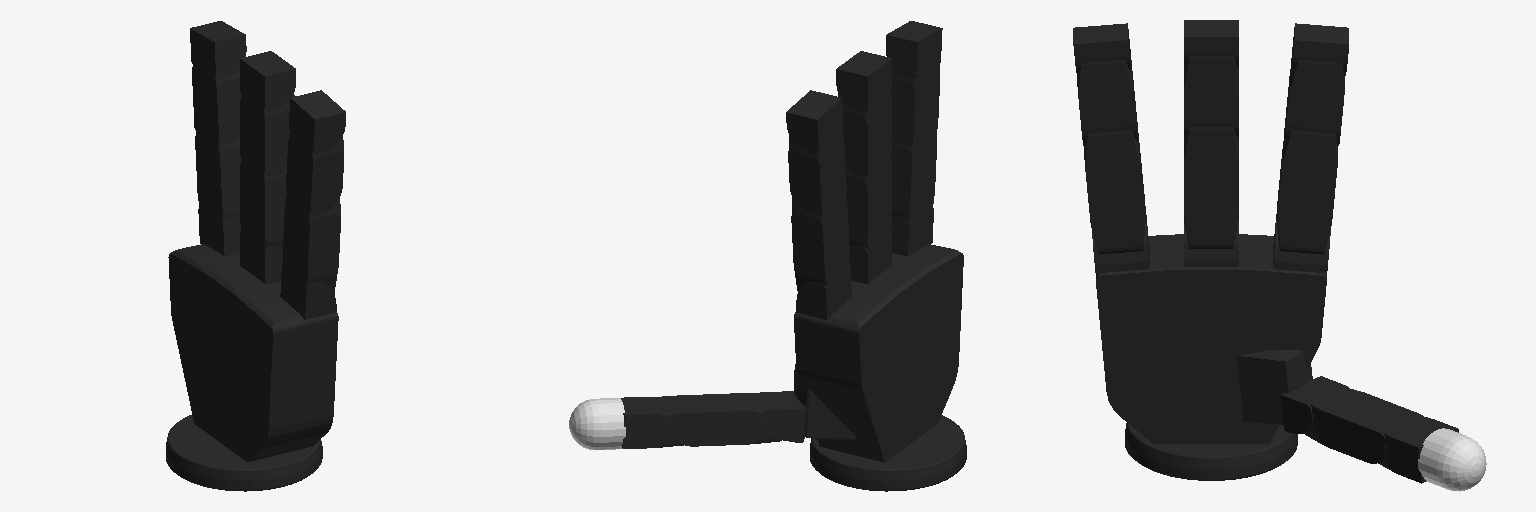
URDF robot description (allegro_hand_right):
<?xml version="1.0" ?>
<!-- =================================================================================== -->
<!-- |    This document was autogenerated by xacro from allegro_hand_description_right.xacro | -->
<!-- |    EDITING THIS FILE BY HAND IS NOT RECOMMENDED                                 | -->
<!-- =================================================================================== -->
<robot name="allegro_hand_right" xmlns:xacro="http://www.ros.org/wiki/xacro">
  <!-- ======================== BASE PARAMS ========================= -->
  <!-- ======================== FINGER PARAMS ======================== -->
  <!-- full height from joint to tip. when used,
    the radius of the finger tip sphere will be subtracted
    and one fixed link will be added for the tip. -->
  <!-- ========================= THUMB PARAMS ========================= -->
  <!-- ========================= LIMITS ========================= -->
  <!-- ============================================================================= -->
  
  <!-- BASE -->
    <link name="base"/>
  <!--joint between {parent} and link_0-->
  <joint name="world_iiwa_joint" type="fixed">
    <origin rpy="-3.141592653589793 -1.5707963267948966 -3.141592653589793" xyz="0.0425 0 0.0425"/>
    <parent link="base"/>
    <child link="allegro_mount00"/>
  </joint>

    <link name="allegro_mount00"/>
    <joint name="mount00" type="fixed">
        <origin rpy="0 0 0" xyz="-0.0425 -0.0425 0 "/>
        <parent link="allegro_mount00"/>
        <child link="allegro_mount"/>
    </joint>

  <link name="allegro_mount">
  <visual>
      <geometry>
        <mesh filename="allegro_mount_convex.stl"/>
      </geometry>
      <!-- LEFT -->
      <!-- <origin rpy="${-90*DEG2RAD} 0 0" xyz="0 0 0 "/> -->
      <!-- RIGHT -->
      <origin rpy="0 0 0" xyz="0 0 0 "/>
      <material name="black">
        <color rgba="0.2 0.2 0.2 1"/>
      </material>
    </visual>
    <collision>
      <origin rpy="0 0 0" xyz="0 0 0"/>
      <geometry>
        <box size="0.001 0.001 0.001"/>
      </geometry>
    </collision>
  </link>
  <!--joint between {parent} and link_0-->
  <joint name="base_joint" type="fixed">
    <origin rpy="0 1.5707963267948966 0" xyz="0.065 0 0.0275"/>
    <parent link="allegro_mount00"/>
    <child link="palm_link"/>
  </joint>

  <!-- PALM -->
  <link name="palm_link">
    <visual>
      <geometry>
        <mesh filename="base_link_convex.stl"/>
      </geometry>
      <origin rpy="0 0 0" xyz="0 0 0 "/>
      <material name="black">
        <color rgba="0.2 0.2 0.2 1"/>
      </material>
    </visual>
    <collision>
      <origin rpy="0 0 0" xyz="-0.009300 0 -0.0475"/>
      <geometry>
        <box size="0.0408 0.1130 0.095"/>
      </geometry>
    </collision>
    <inertial>
      <origin rpy="0 0 0" xyz="0 0 0.0475"/>
      <mass value="0.4154"/>
      <inertia ixx="1e-4" ixy="0" ixz="0" iyy="1e-4" iyz="0" izz="1e-4"/>
    </inertial>
  </link>
  <!-- ============================================================================= -->
  <!-- FINGERS -->
  <!-- RIGHT HAND due to which finger is number 0 -->
  <!-- for LEFT HAND switch the sign of the **offset_origin_y** and **finger_angle_r** parameters-->
  <!-- [LINK 0, 4, 8] -->


  <link name="link_0">
    <visual>
      <geometry>
        <mesh filename="link_0.0_convex.stl"/>
      </geometry>
      <material name="black"/>
    </visual>
    <collision>
      <geometry>
        <box size="0.0196 0.0275 0.0164"/>
      </geometry>
      <origin rpy="0 0 0" xyz="0 0 0.0082"/>
    </collision>
    <inertial>
      <mass value="0.0119"/>
      <origin rpy="0 0 0" xyz="0 0 0"/>
      <inertia ixx="1.01666658333e-06" ixy="0" ixz="0" iyy="6.47677333333e-07" iyz="0" izz="1.01666658333e-06"/>
    </inertial>
  </link>
  <joint name="joint_0" type="revolute">
    <axis xyz="0 0 1"/>
    <limit effort="15" lower="-0.47" upper="0.47" velocity="7"/>
    <parent link="palm_link"/>
    <child link="link_0"/>
    <origin rpy="-0.08726646255 0 0" xyz="0 0.0435 -0.001542"/>
    <dynamics damping="3" friction="10"/>
  </joint>
  <!-- [LINK 1, 5, 9] -->
  <link name="link_1">
    <visual>
      <geometry>
        <mesh filename="link_1.0_convex.stl"/>
      </geometry>
      <material name="black"/>
    </visual>
    <collision>
      <geometry>
        <box size="0.0196 0.0275 0.054"/>
      </geometry>
      <origin rpy="0 0 0" xyz="0 0 0.027"/>
    </collision>
    <inertial>
      <mass value="0.065"/>
      <origin rpy="0 0 0" xyz="0 0 0"/>
      <inertia ixx="7.95654166667e-05" ixy="1.7199e-05" ixz="8.75875e-06" iyy="2.47088833333e-05" iyz="2.413125e-05" izz="7.95654166667e-05"/>
    </inertial>
  </link>
  <joint name="joint_1" type="revolute">
    <limit effort="15" lower="-0.196" upper="1.61" velocity="7"/>
    <axis xyz="0 1 0"/>
    <parent link="link_0"/>
    <child link="link_1"/>
    <origin xyz="0 0 0.0164"/>
    <dynamics damping="3" friction="5"/>
  </joint>
  <!-- [LINK 2, 6, 10]-->
  <link name="link_2">
    <visual>
      <geometry>
        <mesh filename="link_2.0_convex.stl"/>
      </geometry>
      <material name="black"/>
    </visual>
    <collision>
      <geometry>
        <box size="0.0196 0.0275 0.0384"/>
      </geometry>
      <origin rpy="0 0 0" xyz="0 0 0.0192"/>
    </collision>
    <inertial>
      <mass value="0.0355"/>
      <origin rpy="0 0 0" xyz="0 0 0"/>
      <inertia ixx="2.63979183333e-05" ixy="6.67968e-06" ixz="4.783625e-06" iyy="1.34948516667e-05" iyz="9.372e-06" izz="2.63979183333e-05"/>
    </inertial>
  </link>
  <joint name="joint_2" type="revolute">
    <axis xyz="0 1 0"/>
    <limit effort="15" lower="-0.174" upper="1.709" velocity="7"/>
    <parent link="link_1"/>
    <child link="link_2"/>
    <origin xyz="0 0 0.054"/>
    <dynamics damping="8" friction="10"/>
  </joint>
  <!-- [LINK 3, 7, 11] -->
  <link name="link_3">
    <visual>
      <geometry>
        <mesh filename="link_3.0_convex.stl"/>
      </geometry>
      <material name="black"/>
    </visual>
    <collision>
      <geometry>
        <box size="0.0196 0.0275 0.0267"/>
      </geometry>
      <origin rpy="0 0 0" xyz="0 0 0.01335"/>
    </collision>
    <inertial>
      <mass value="0.0096"/>
      <origin rpy="0 0 0" xyz="0 0 0"/>
      <inertia ixx="4.701248e-06" ixy="1.255968e-06" ixz="1.2936e-06" iyy="3.649312e-06" iyz="1.7622e-06" izz="4.701248e-06"/>
    </inertial>
  </link>
  <joint name="joint_3" type="revolute">
    <axis xyz="0 1 0"/>
    <limit effort="15" lower="-0.227" upper="1.618" velocity="7"/>
    <parent link="link_2"/>
    <child link="link_3"/>
    <origin xyz="0 0 0.0384"/>
    <dynamics damping="10" friction="12"/>
  </joint>
  <!-- [FINGER TIP] -->
  <link name="link_3.0_tip">
    <visual>
      <geometry>
        <mesh filename="link_3.0_tip_convex.stl"/>
      </geometry>
      <material name="white">
        <color rgba=".9 .9 .9 1"/>
      </material>
    </visual>
    <collision>
      <geometry>
        <sphere radius="0.012"/>
      </geometry>
    </collision>
    <inertial>
      <mass value="0.0168"/>
      <origin rpy="0 0 0" xyz="0 0 0"/>
      <inertia ixx="9.68e-07" ixy="0" ixz="0" iyy="9.68e-07" iyz="0" izz="9.68e-07"/>
    </inertial>
  </link>
  <joint name="joint_3.0_tip" type="fixed">
    <parent link="link_3"/>
    <child link="link_3.0_tip"/>
    <origin rpy="0 0 0" xyz="0 0 0.0267"/>
  </joint>
  <!-- [LINK 0, 4, 8] -->
  <link name="link_4">
    <visual>
      <geometry>
        <mesh filename="link_0.0_convex.stl"/>
      </geometry>
      <material name="black"/>
    </visual>
    <collision>
      <geometry>
        <box size="0.0196 0.0275 0.0164"/>
      </geometry>
      <origin rpy="0 0 0" xyz="0 0 0.0082"/>
    </collision>
    <inertial>
      <mass value="0.0119"/>
      <origin rpy="0 0 0" xyz="0 0 0"/>
      <inertia ixx="1.01666658333e-06" ixy="0" ixz="0" iyy="6.47677333333e-07" iyz="0" izz="1.01666658333e-06"/>
    </inertial>
  </link>
  <joint name="joint_4" type="revolute">
    <axis xyz="0 0 1"/>
    <limit effort="15" lower="-0.47" upper="0.47" velocity="7"/>
    <parent link="palm_link"/>
    <child link="link_4"/>
    <origin rpy="0.0 0 0" xyz="0 0 0.0007"/>
    <dynamics damping="3" friction="10"/>
  </joint>
  <!-- [LINK 1, 5, 9] -->
  <link name="link_5">
    <visual>
      <geometry>
        <mesh filename="link_1.0_convex.stl"/>
      </geometry>
      <material name="black"/>
    </visual>
    <collision>
      <geometry>
        <box size="0.0196 0.0275 0.054"/>
      </geometry>
      <origin rpy="0 0 0" xyz="0 0 0.027"/>
    </collision>
    <inertial>
      <mass value="0.065"/>
      <origin rpy="0 0 0" xyz="0 0 0"/>
      <inertia ixx="7.95654166667e-05" ixy="1.7199e-05" ixz="8.75875e-06" iyy="2.47088833333e-05" iyz="2.413125e-05" izz="7.95654166667e-05"/>
    </inertial>
  </link>
  <joint name="joint_5" type="revolute">
    <limit effort="15" lower="-0.196" upper="1.61" velocity="7"/>
    <axis xyz="0 1 0"/>
    <parent link="link_4"/>
    <child link="link_5"/>
    <origin xyz="0 0 0.0164"/>
    <dynamics damping="3" friction="5"/>
  </joint>
  <!-- [LINK 2, 6, 10]-->
  <link name="link_6">
    <visual>
      <geometry>
        <mesh filename="link_2.0_convex.stl"/>
      </geometry>
      <material name="black"/>
    </visual>
    <collision>
      <geometry>
        <box size="0.0196 0.0275 0.0384"/>
      </geometry>
      <origin rpy="0 0 0" xyz="0 0 0.0192"/>
    </collision>
    <inertial>
      <mass value="0.0355"/>
      <origin rpy="0 0 0" xyz="0 0 0"/>
      <inertia ixx="2.63979183333e-05" ixy="6.67968e-06" ixz="4.783625e-06" iyy="1.34948516667e-05" iyz="9.372e-06" izz="2.63979183333e-05"/>
    </inertial>
  </link>
  <joint name="joint_6" type="revolute">
    <axis xyz="0 1 0"/>
    <limit effort="15" lower="-0.174" upper="1.709" velocity="7"/>
    <parent link="link_5"/>
    <child link="link_6"/>
    <origin xyz="0 0 0.054"/>
    <dynamics damping="8" friction="10"/>
  </joint>
  <!-- [LINK 3, 7, 11] -->
  <link name="link_7">
    <visual>
      <geometry>
        <mesh filename="link_3.0_convex.stl"/>
      </geometry>
      <material name="black"/>
    </visual>
    <collision>
      <geometry>
        <box size="0.0196 0.0275 0.0267"/>
      </geometry>
      <origin rpy="0 0 0" xyz="0 0 0.01335"/>
    </collision>
    <inertial>
      <mass value="0.0096"/>
      <origin rpy="0 0 0" xyz="0 0 0"/>
      <inertia ixx="4.701248e-06" ixy="1.255968e-06" ixz="1.2936e-06" iyy="3.649312e-06" iyz="1.7622e-06" izz="4.701248e-06"/>
    </inertial>
  </link>
  <joint name="joint_7" type="revolute">
    <axis xyz="0 1 0"/>
    <limit effort="15" lower="-0.227" upper="1.618" velocity="7"/>
    <parent link="link_6"/>
    <child link="link_7"/>
    <origin xyz="0 0 0.0384"/>
    <dynamics damping="10" friction="12"/>
  </joint>
  <!-- [FINGER TIP] -->
  <link name="link_7.0_tip">
    <visual>
      <geometry>
        <mesh filename="link_3.0_tip_convex.stl"/>
      </geometry>
      <material name="white">
        <color rgba=".9 .9 .9 1"/>
      </material>
    </visual>
    <collision>
      <geometry>
        <sphere radius="0.012"/>
      </geometry>
    </collision>
    <inertial>
      <mass value="0.0168"/>
      <origin rpy="0 0 0" xyz="0 0 0"/>
      <inertia ixx="9.68e-07" ixy="0" ixz="0" iyy="9.68e-07" iyz="0" izz="9.68e-07"/>
    </inertial>
  </link>
  <joint name="joint_7.0_tip" type="fixed">
    <parent link="link_7"/>
    <child link="link_7.0_tip"/>
    <origin rpy="0 0 0" xyz="0 0 0.0267"/>
  </joint>
  <!-- [LINK 0, 4, 8] -->
  <link name="link_8">
    <visual>
      <geometry>
        <mesh filename="link_0.0_convex.stl"/>
      </geometry>
      <material name="black"/>
    </visual>
    <collision>
      <geometry>
        <box size="0.0196 0.0275 0.0164"/>
      </geometry>
      <origin rpy="0 0 0" xyz="0 0 0.0082"/>
    </collision>
    <inertial>
      <mass value="0.0119"/>
      <origin rpy="0 0 0" xyz="0 0 0"/>
      <inertia ixx="1.01666658333e-06" ixy="0" ixz="0" iyy="6.47677333333e-07" iyz="0" izz="1.01666658333e-06"/>
    </inertial>
  </link>
  <joint name="joint_8" type="revolute">
    <axis xyz="0 0 1"/>
    <limit effort="15" lower="-0.47" upper="0.47" velocity="7"/>
    <parent link="palm_link"/>
    <child link="link_8"/>
    <origin rpy="0.08726646255 0 0" xyz="0 -0.0435 -0.001542"/>
    <dynamics damping="3" friction="10"/>
  </joint>
  <!-- [LINK 1, 5, 9] -->
  <link name="link_9">
    <visual>
      <geometry>
        <mesh filename="link_1.0_convex.stl"/>
      </geometry>
      <material name="black"/>
    </visual>
    <collision>
      <geometry>
        <box size="0.0196 0.0275 0.054"/>
      </geometry>
      <origin rpy="0 0 0" xyz="0 0 0.027"/>
    </collision>
    <inertial>
      <mass value="0.065"/>
      <origin rpy="0 0 0" xyz="0 0 0"/>
      <inertia ixx="7.95654166667e-05" ixy="1.7199e-05" ixz="8.75875e-06" iyy="2.47088833333e-05" iyz="2.413125e-05" izz="7.95654166667e-05"/>
    </inertial>
  </link>
  <joint name="joint_9" type="revolute">
    <limit effort="15" lower="-0.196" upper="1.61" velocity="7"/>
    <axis xyz="0 1 0"/>
    <parent link="link_8"/>
    <child link="link_9"/>
    <origin xyz="0 0 0.0164"/>
    <dynamics damping="3" friction="5"/>
  </joint>
  <!-- [LINK 2, 6, 10]-->
  <link name="link_10">
    <visual>
      <geometry>
        <mesh filename="link_2.0_convex.stl"/>
      </geometry>
      <material name="black"/>
    </visual>
    <collision>
      <geometry>
        <box size="0.0196 0.0275 0.0384"/>
      </geometry>
      <origin rpy="0 0 0" xyz="0 0 0.0192"/>
    </collision>
    <inertial>
      <mass value="0.0355"/>
      <origin rpy="0 0 0" xyz="0 0 0"/>
      <inertia ixx="2.63979183333e-05" ixy="6.67968e-06" ixz="4.783625e-06" iyy="1.34948516667e-05" iyz="9.372e-06" izz="2.63979183333e-05"/>
    </inertial>
  </link>
  <joint name="joint_10" type="revolute">
    <axis xyz="0 1 0"/>
    <limit effort="15" lower="-0.174" upper="1.709" velocity="7"/>
    <parent link="link_9"/>
    <child link="link_10"/>
    <origin xyz="0 0 0.054"/>
    <dynamics damping="8" friction="10"/>
  </joint>
  <!-- [LINK 3, 7, 11] -->
  <link name="link_11">
    <visual>
      <geometry>
        <mesh filename="link_3.0_convex.stl"/>
      </geometry>
      <material name="black"/>
    </visual>
    <collision>
      <geometry>
        <box size="0.0196 0.0275 0.0267"/>
      </geometry>
      <origin rpy="0 0 0" xyz="0 0 0.01335"/>
    </collision>
    <inertial>
      <mass value="0.0096"/>
      <origin rpy="0 0 0" xyz="0 0 0"/>
      <inertia ixx="4.701248e-06" ixy="1.255968e-06" ixz="1.2936e-06" iyy="3.649312e-06" iyz="1.7622e-06" izz="4.701248e-06"/>
    </inertial>
  </link>
  <joint name="joint_11" type="revolute">
    <axis xyz="0 1 0"/>
    <limit effort="15" lower="-0.227" upper="1.618" velocity="7"/>
    <parent link="link_10"/>
    <child link="link_11"/>
    <origin xyz="0 0 0.0384"/>
    <dynamics damping="10" friction="12"/>
  </joint>
  <!-- [FINGER TIP] -->
  <link name="link_11.0_tip">
    <visual>
      <geometry>
        <mesh filename="link_3.0_tip_convex.stl"/>
      </geometry>
      <material name="white">
        <color rgba=".9 .9 .9 1"/>
      </material>
    </visual>
    <collision>
      <geometry>
        <sphere radius="0.012"/>
      </geometry>
    </collision>
    <inertial>
      <mass value="0.0168"/>
      <origin rpy="0 0 0" xyz="0 0 0"/>
      <inertia ixx="9.68e-07" ixy="0" ixz="0" iyy="9.68e-07" iyz="0" izz="9.68e-07"/>
    </inertial>
  </link>
  <joint name="joint_11.0_tip" type="fixed">
    <parent link="link_11"/>
    <child link="link_11.0_tip"/>
    <origin rpy="0 0 0" xyz="0 0 0.0267"/>
  </joint>
  <!-- THUMB -->
  <!-- [LINK 12] -->

  <link name="link_1200"/>
    <joint name="j_link_1200" type="fixed">
       <origin rpy="3.1415926518 0 0" xyz="0 0 0"/>
        <parent link="link_1200"/>
        <child link="link_12"/>
    </joint>
  <link name="link_12">
    <visual>
      <geometry>
        <mesh filename="link_12.0_right_convex.stl"/>
      </geometry>
      <material name="black">
        <color rgba=".2 .2 .2 1"/>
      </material>
      <!--<origin rpy="3.1415926518 0 0" xyz="0 0 0"/> -->
    </visual>
    <collision>
      <geometry>
        <box size="0.0358 0.034 0.0455"/>
      </geometry>
      <origin rpy="0 0 0" xyz="-0.0179 0.009 0.0145"/>
    </collision>
    <inertial>
      <mass value="0.0176"/>
      <origin rpy="0 0 0" xyz="0 0 0"/>
      <inertia ixx="1.89273333333e-5" ixy="7.16716e-06" ixz="5.35568e-06" iyy="1.43008213333e-05" iyz="6.8068e-06" izz="1.89273333333e-05"/>
    </inertial>
  </link>
  <joint name="joint_12" type="revolute">
    <axis xyz="-1 0 0"/>
    <limit effort="15" lower="0.263" upper="1.396" velocity="7"/>
    <parent link="palm_link"/>
    <child link="link_1200"/>
    <!--origin rpy="0 -1.65806278845 -1.5707963259" xyz="-0.0182 0.019333 -0.045987"-->
    <origin rpy="0 -1.65806278845 1.5707963259" xyz="-0.0182 0.019333 -0.045987"/>
    <dynamics damping="3" friction="10"/>
  </joint>
  <!-- [LINK 13] -->
  <link name="link_13">
    <visual>
      <geometry>
        <mesh filename="link_13.0_convex.stl"/>
      </geometry>
      <material name="black">
        <color rgba=".2 .2 .2 1"/>
      </material>
    </visual>
    <collision>
      <geometry>
        <box size="0.0196 0.0275 0.0177"/>
      </geometry>
      <origin rpy="0 0 0" xyz="0 0 0.00885"/>
    </collision>
    <inertial>
      <mass value="0.0119"/>
      <origin rpy="0 0 0" xyz="0 0 0"/>
      <inertia ixx="4.24250866667e-06" ixy="1.032087e-06" ixz="1.603525e-06" iyy="4.52362633333e-06" iyz="1.44808125e-06" izz="4.24250866667e-06"/>
    </inertial>
  </link>
  <joint name="joint_13" type="revolute">
    <!-- axis xyz="0 0 1" -->
    <axis xyz="0 0 1"/>
    <limit effort="15" lower="-0.105" upper="1.163" velocity="7"/>
    <parent link="link_1200"/>
    <child link="link_13"/>
    <!-- origin xyz="-0.027 0.005 0.0399" -->
    <origin xyz="-0.027 -0.005 -0.0399" rpy="0 3.14159 0"/>
    <dynamics damping="3" friction="5"/>
  </joint>
  <!-- [LINK 14] -->
  <link name="link_14">
    <visual>
      <geometry>
        <mesh filename="link_14.0_convex.stl"/>
      </geometry>
      <material name="black">
                </material>
    </visual>
    <collision>
      <geometry>
        <box size="0.0196 0.0275 0.0514"/>
      </geometry>
      <origin rpy="0 0 0" xyz="0 0 0.0257"/>
    </collision>
    <inertial>
      <mass value="0.038"/>
      <origin rpy="0 0 0" xyz="0 0 0"/>
      <inertia ixx="4.30439933333e-05" ixy="9.57068e-06" ixz="5.1205e-06" iyy="1.44451933333e-05" iyz="1.342825e-05" izz="4.30439933333e-05"/>
    </inertial>
  </link>
  <joint name="joint_14" type="revolute">
    <axis xyz="0 -1 0"/>
    <limit effort="15" lower="-0.189" upper="1.644" velocity="7"/>
    <parent link="link_13"/>
    <child link="link_14"/>
    <!-- origin xyz="0 0 0.0177" -->
    <origin xyz="0 0 0.0177"/>
    <dynamics damping="3" friction="10"/>
  </joint>
  <!-- [LINK 15] -->
  <link name="link_15">
    <visual>
      <geometry>
        <mesh filename="link_15.0_convex.stl"/>
      </geometry>
      <material name="black">
                </material>
    </visual>
    <collision>
      <geometry>
        <box size="0.0196 0.0275 0.0423"/>
      </geometry>
      <origin rpy="0 0 0" xyz="0 0 0.02115"/>
    </collision>
    <inertial>
      <mass value="0.0388"/>
      <origin rpy="0 0 0" xyz="0 0 0"/>
      <inertia ixx="3.29223173333e-05" ixy="8.042076e-06" ixz="5.2283e-06" iyy="1.47493026667e-5" iyz="1.1283525e-5" izz="3.29223173333e-05"/>
    </inertial>
  </link>
  <joint name="joint_15" type="revolute">
    <axis xyz="0 -1 0"/> <!-- changed from "0 1 0" to "0 -1 0" --> 
    <limit effort="15" lower="-0.162" upper="1.719" velocity="7"/>
    <parent link="link_14"/>
    <child link="link_15"/>
    <origin xyz="0 0 0.0514"/>
    <dynamics damping="3" friction="12"/>
  </joint>
  <!-- [FINGER TIP] -->
  <link name="link_15.0_tip">
    <visual>
      <geometry>
        <mesh filename="link_15.0_tip_convex.stl"/>
      </geometry>
      <material name="white">
        <color rgba=".9 .9 .9 1"/>
      </material>
    </visual>
    <collision>
      <geometry>
        <sphere radius="0.012"/>
      </geometry>
      <origin rpy="0 0 0" xyz="0 0 0"/>
    </collision>
    <inertial>
      <mass value="0.0168"/>
      <origin rpy="0 0 0" xyz="0 0 0"/>
      <inertia ixx="9.68e-07" ixy="0" ixz="0" iyy="9.68e-07" iyz="0" izz="9.68e-07"/>
    </inertial>
  </link>
  <joint name="joint_15.0_tip" type="fixed">
    <parent link="link_15"/>
    <child link="link_15.0_tip"/>
    <origin rpy="0 0 0" xyz="0 0 0.0423"/>
  </joint>
  <!-- ============================================================================= -->
  <!-- THUMB MACRO -->
  <!-- END THUMB MACRO -->
  <!-- THREE FINGER MACRO -->
  <!-- [[END]] THREE FINGER MACRO -->
</robot>

--- What the picture shows (computed from the rendered views, not written in the file) ---
The picture shows the robot from 3 angles, left to right: view 1: azimuth 30°, elevation 25°; view 2: azimuth 150°, elevation 25°; view 3: azimuth 270°, elevation 25°; orthographic projection.
Robot: allegro_hand_right — 25 links, 24 joints (16 revolute, 8 fixed); root link base; default pose: all joints at 0 but 1 set to mid-range because 0 is outside their limits (joint_12 = 0.8295).
Links seen in each view (by area): view 1: palm_link, allegro_mount, link_9, link_5, link_10, link_1, link_2, link_6, link_11, link_3, link_7, link_8 (+2 smaller); view 2: palm_link, allegro_mount, link_14, link_1, link_9, link_5, link_2, link_10, link_6, link_15, link_15.0_tip, link_7 (+7 smaller); view 3: palm_link, link_9, link_1, link_5, allegro_mount, link_14, link_10, link_12, link_2, link_6, link_15.0_tip, link_15 (+7 smaller).
Link boxes in pixels (<box>): palm_link: <box>168,244,338,461</box>; allegro_mount: <box>166,415,322,491</box>; link_9: <box>283,190,340,296</box>; link_5: <box>240,144,286,261</box>; link_10: <box>286,120,343,215</box>; link_1: <box>195,124,240,223</box>; link_2: <box>192,50,240,145</box>; link_6: <box>240,80,294,176</box>; link_11: <box>289,90,345,153</box>; link_3: <box>190,21,246,78</box>; link_7: <box>240,51,295,111</box>; link_8: <box>280,265,336,319</box>; palm_link: <box>794,244,963,462</box>; allegro_mount: <box>810,415,966,491</box>; link_14: <box>662,393,781,446</box>; link_1: <box>791,181,849,290</box>; link_9: <box>891,117,936,233</box>; link_5: <box>846,145,891,261</box>; link_2: <box>788,119,846,215</box>; link_10: <box>891,53,939,145</box>; link_6: <box>838,88,891,176</box>; link_15: <box>621,397,686,448</box>; link_15.0_tip: <box>569,398,625,449</box>; link_7: <box>836,51,891,111</box>; palm_link: <box>1096,234,1326,443</box>; link_9: <box>1084,130,1145,254</box>; link_1: <box>1277,130,1337,254</box>; link_5: <box>1184,127,1238,248</box>; allegro_mount: <box>1125,423,1297,480</box>; link_14: <box>1304,387,1422,463</box>; link_10: <box>1077,60,1138,145</box>; link_12: <box>1237,350,1312,424</box>; link_2: <box>1284,60,1344,145</box>; link_6: <box>1184,56,1238,138</box>; link_15.0_tip: <box>1418,428,1486,491</box>; link_15: <box>1378,412,1458,483</box>.
Bounding box of the posed robot: 0.1697 × 0.2029 × 0.2327 m (x, y, z).
Meshes: 12 distinct files referenced, 19 mesh visuals loaded (11 binary STL); not drawn: 3 (reference not matched to a file when rendering).